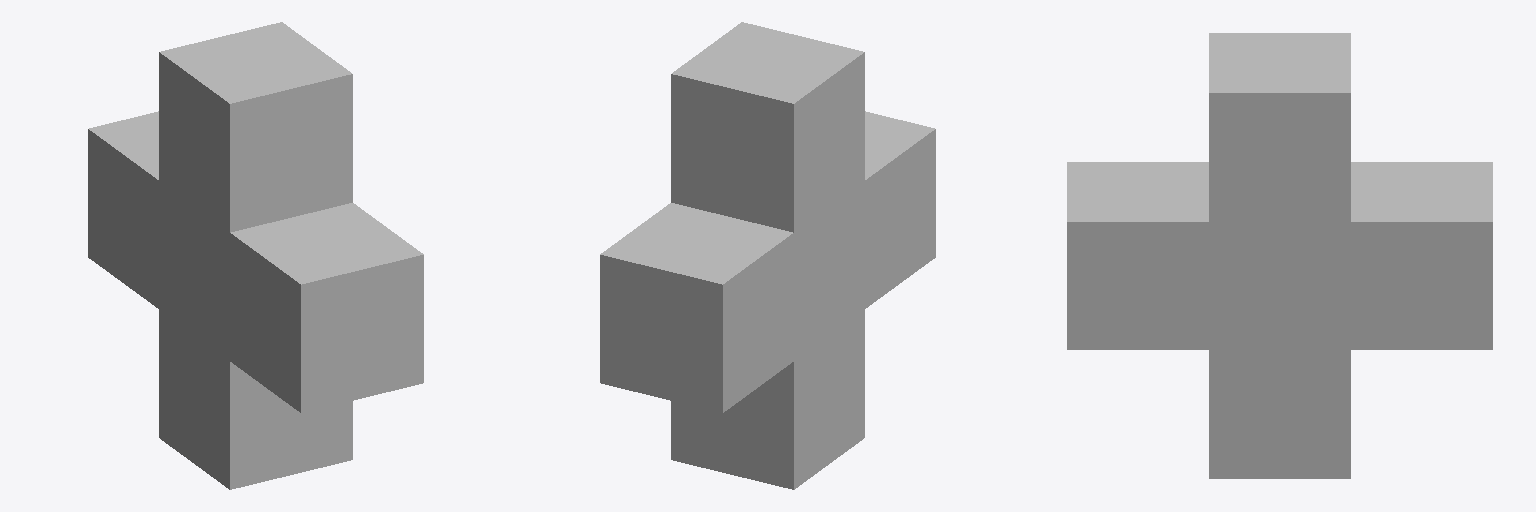
File: health.obj
3 views of the same model, side by side, from view 1: azimuth 30°, elevation 25°; view 2: azimuth 150°, elevation 25°; view 3: azimuth 270°, elevation 25° (orthographic).
Visible parts, largest first — view 1: Cube; view 2: Cube; view 3: Cube.
Boxes of the visible parts, <box> form: Cube: <box>88,22,423,489</box>; Cube: <box>600,22,935,489</box>; Cube: <box>1067,33,1492,478</box>.
Bounding box in the file's own units: 0.4 × 1.2 × 1.2.